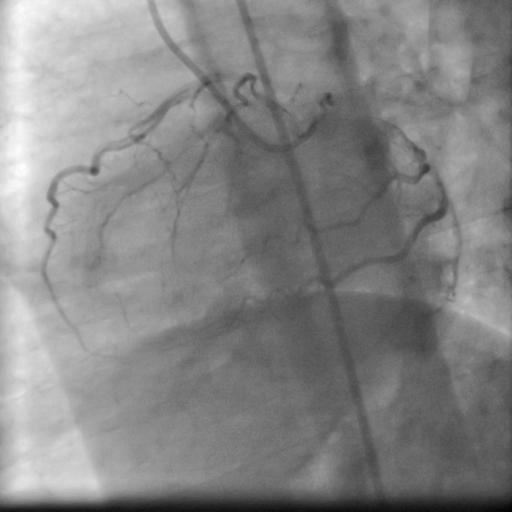Stenosis: (414, 155, 428, 166)
